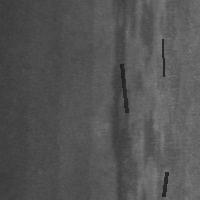inclusion: (110, 1, 165, 198), (119, 62, 128, 114), (160, 37, 165, 78), (161, 170, 168, 198)
